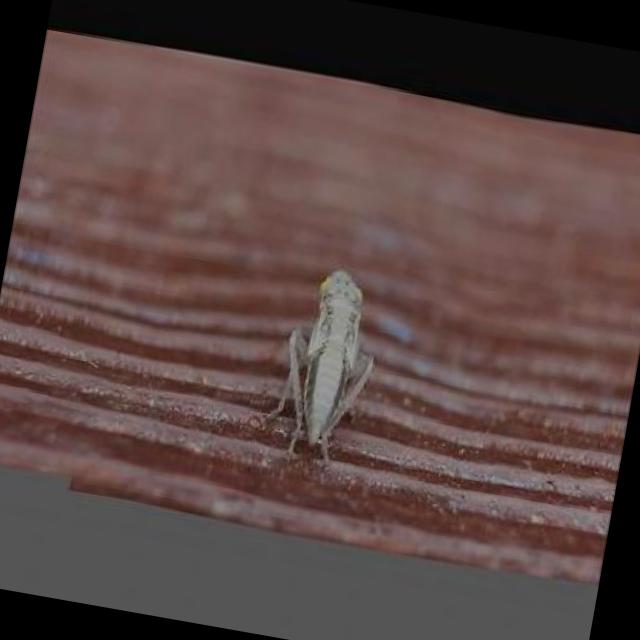green-leafhopper: (254, 252, 389, 470)
